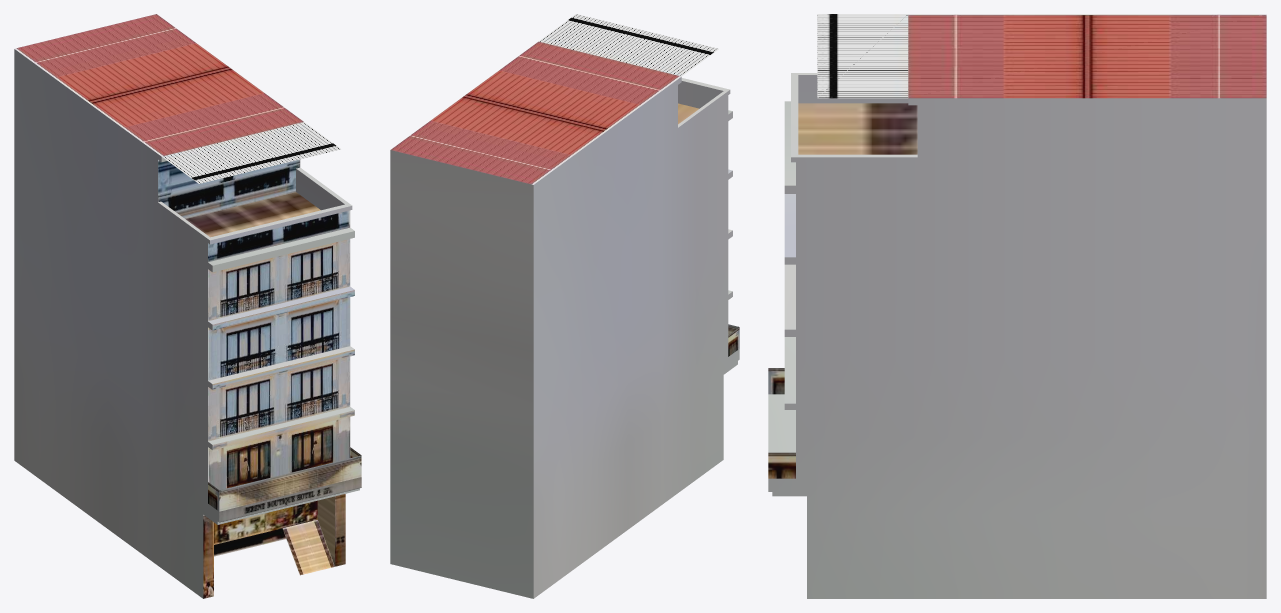
The picture shows the model from 3 angles, left to right: view 1: azimuth 30°, elevation 25°; view 2: azimuth 150°, elevation 25°; view 3: azimuth 270°, elevation 25°; orthographic projection. The views are drawn at different scales.
Visible parts, largest first — view 1: HN157_serene_boutique_hanoi; view 2: HN157_serene_boutique_hanoi; view 3: HN157_serene_boutique_hanoi.
Boxes of the visible parts, left/top/right/bottom form: HN157_serene_boutique_hanoi: left=14, top=14, right=361, bottom=598; HN157_serene_boutique_hanoi: left=390, top=14, right=739, bottom=598; HN157_serene_boutique_hanoi: left=768, top=14, right=1266, bottom=598.
Size of the model in its own units: 8 by 22.1 by 19.94.
1 material, 1 textured.
